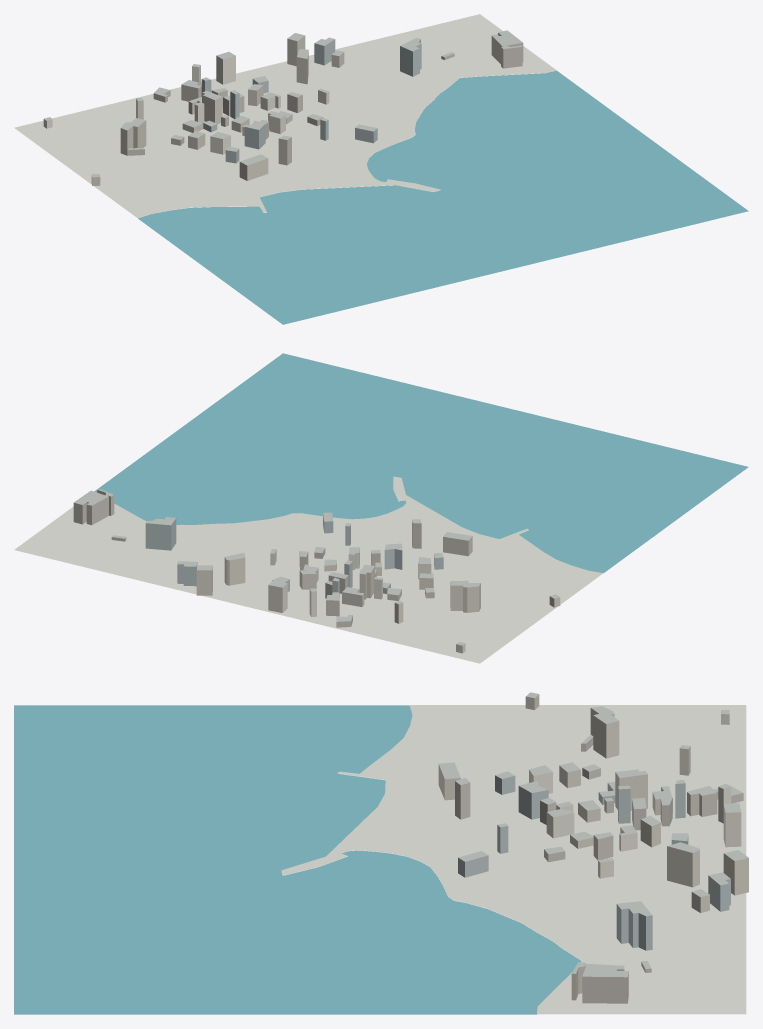
The picture shows the model from 3 angles, top to bottom: view 1: azimuth 30°, elevation 25°; view 2: azimuth 150°, elevation 25°; view 3: azimuth 270°, elevation 25°; orthographic projection. The views are drawn at different scales.
Visible parts, largest first — view 1: city; view 2: city; view 3: city.
Boxes of the visible parts, bbox=[...] form: city: bbox=[14, 14, 748, 324]; city: bbox=[14, 353, 748, 663]; city: bbox=[14, 692, 748, 1014].
Size of the model in its own units: 501 by 26.18 by 502.
